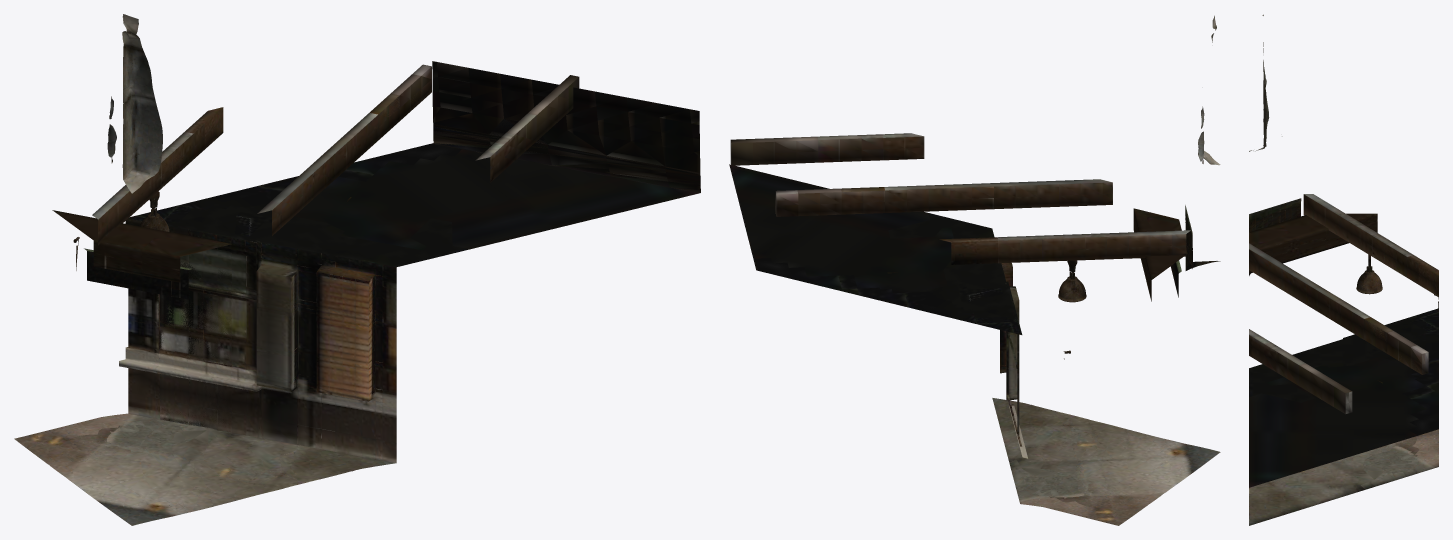
The picture shows the model from 3 angles, left to right: view 1: azimuth 30°, elevation 25°; view 2: azimuth 150°, elevation 25°; view 3: azimuth 270°, elevation 25°; orthographic projection. The views are drawn at different scales.
Size of the model in its own units: 9.78 by 8.33 by 3.51.
1 material, 1 textured.
